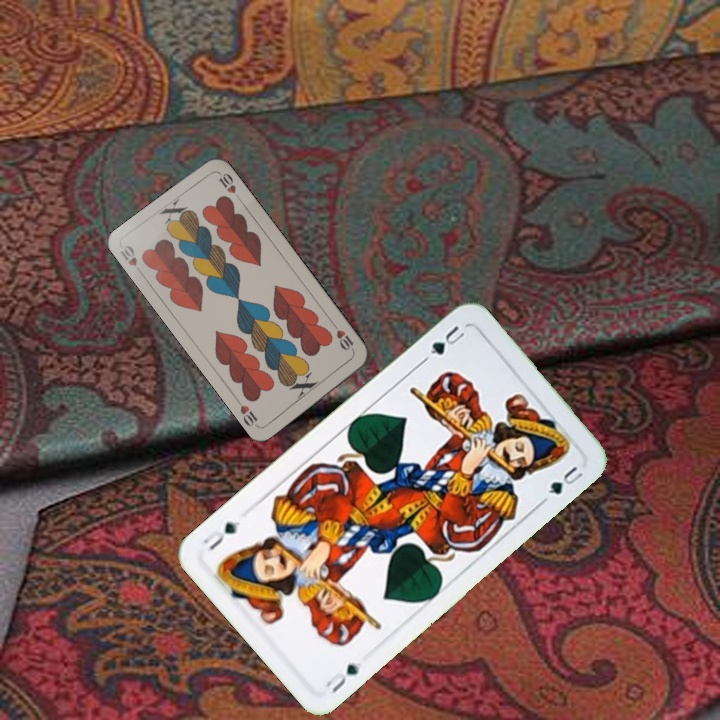GU: (321, 658, 364, 696), (426, 321, 468, 358)
H10: (116, 241, 146, 278), (328, 320, 357, 355)
